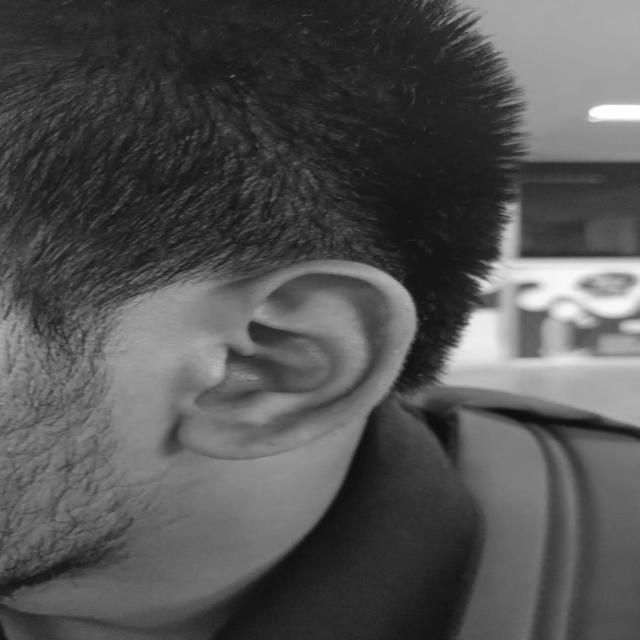ear: (175, 261, 416, 459), (182, 403, 184, 406)
